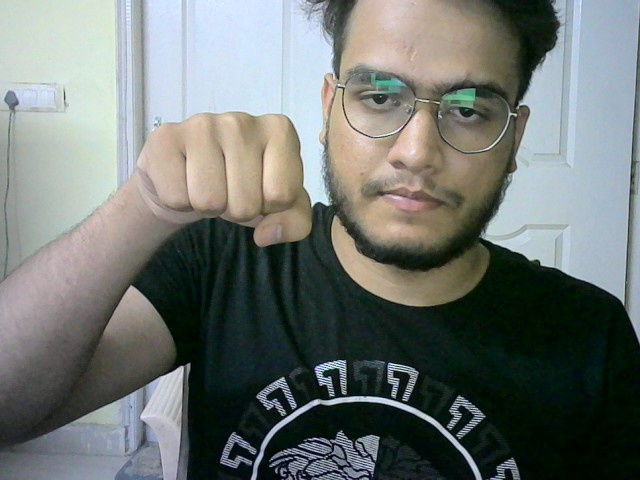Yes: (127, 103, 331, 257)
